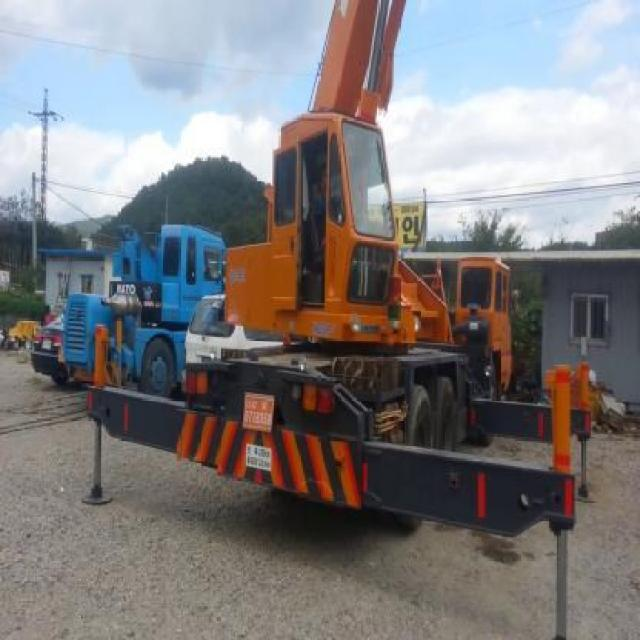Mobile Crane: (84, 0, 593, 575)
